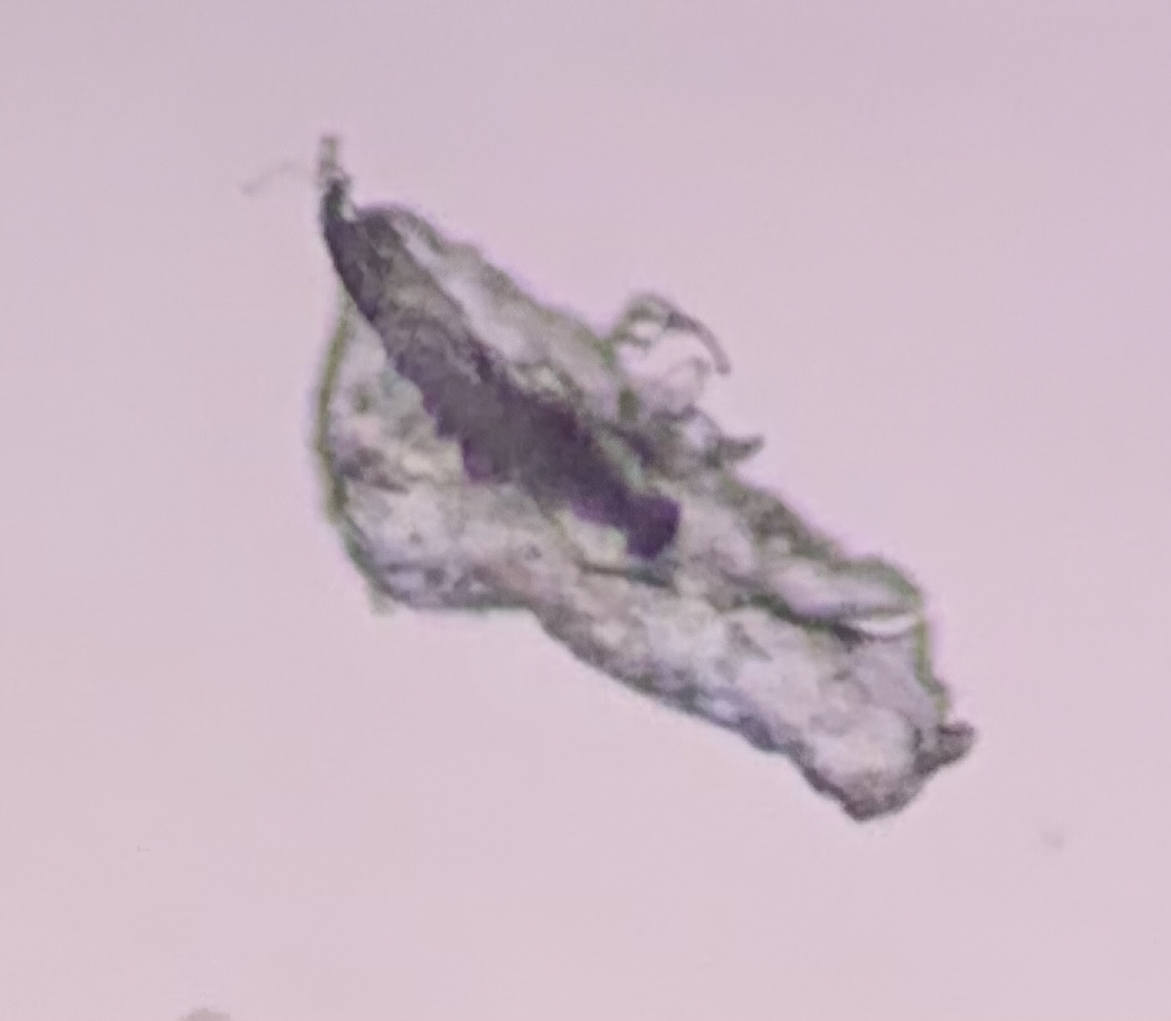microplastic: (302, 133, 981, 827)
